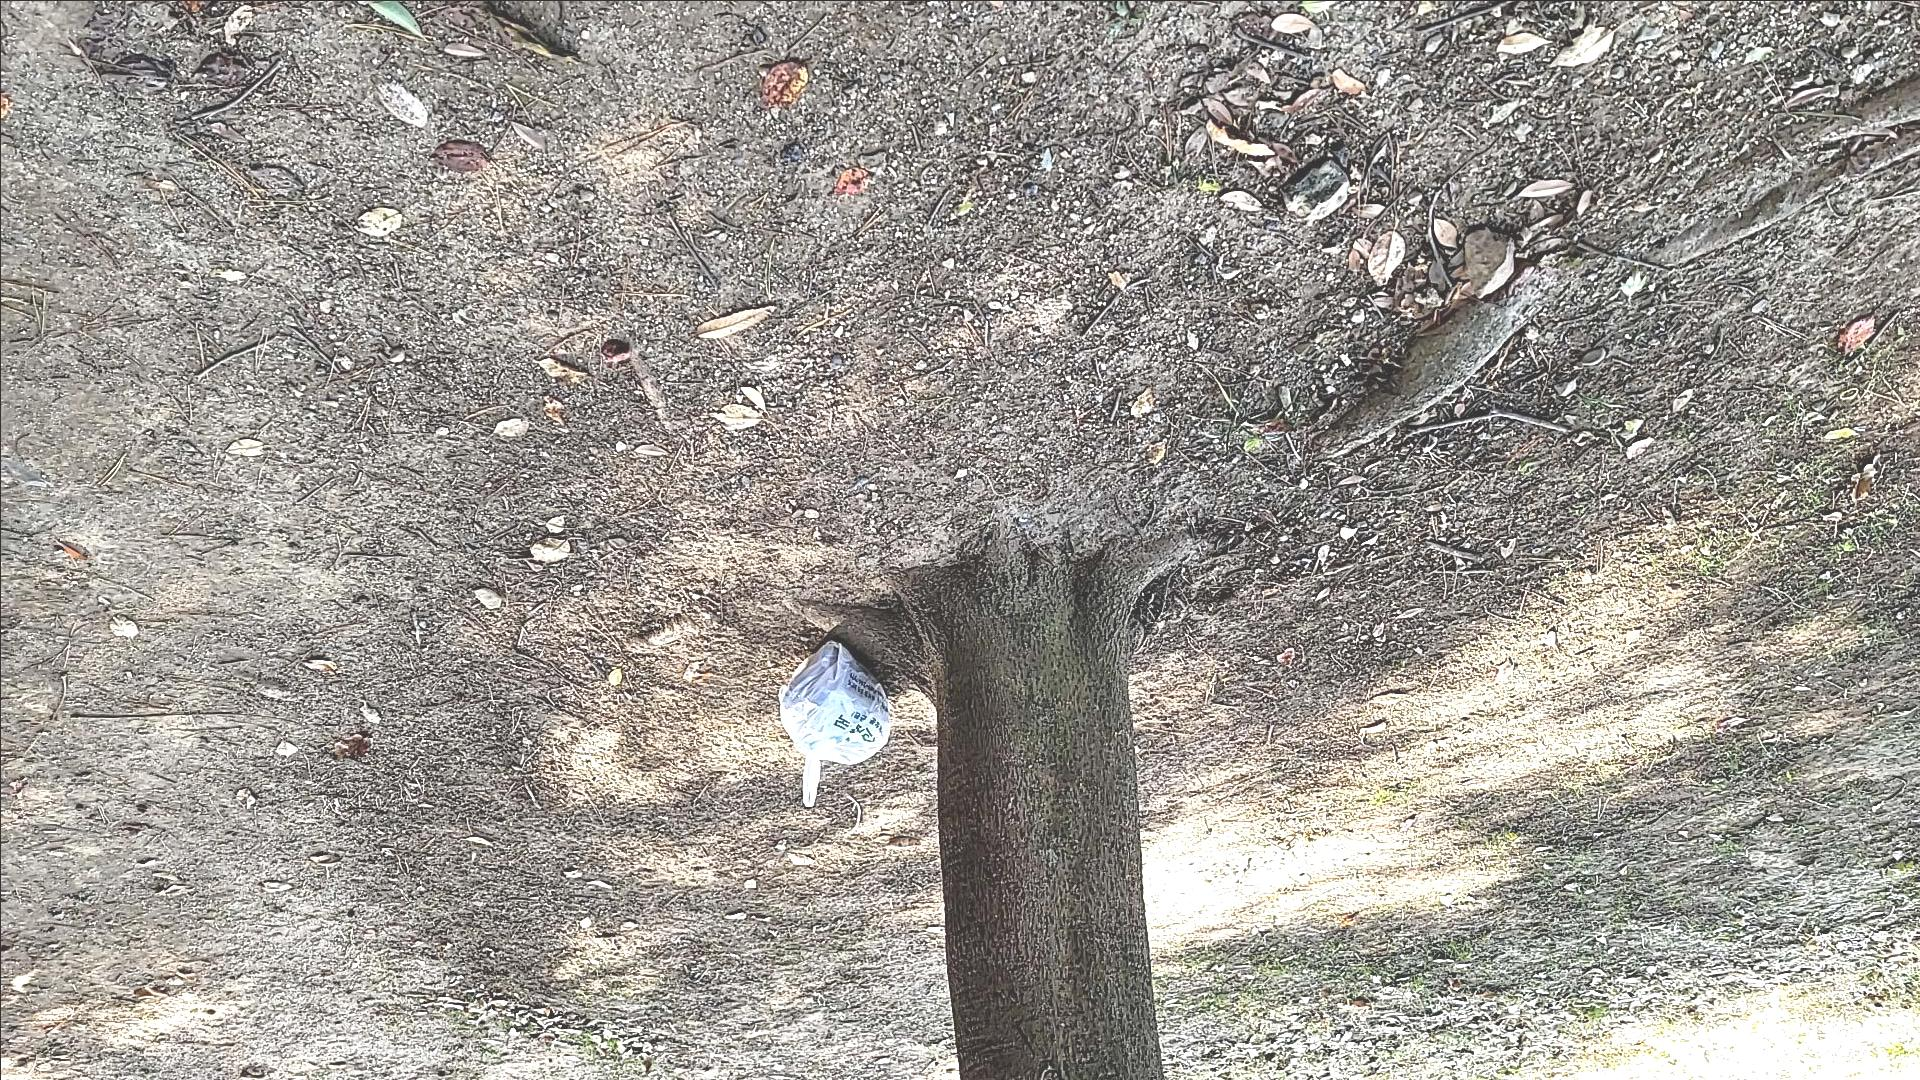white_bag: (766, 628, 909, 816)
